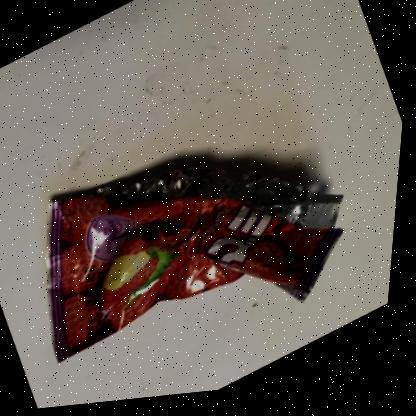Plastic: (53, 171, 346, 363)
